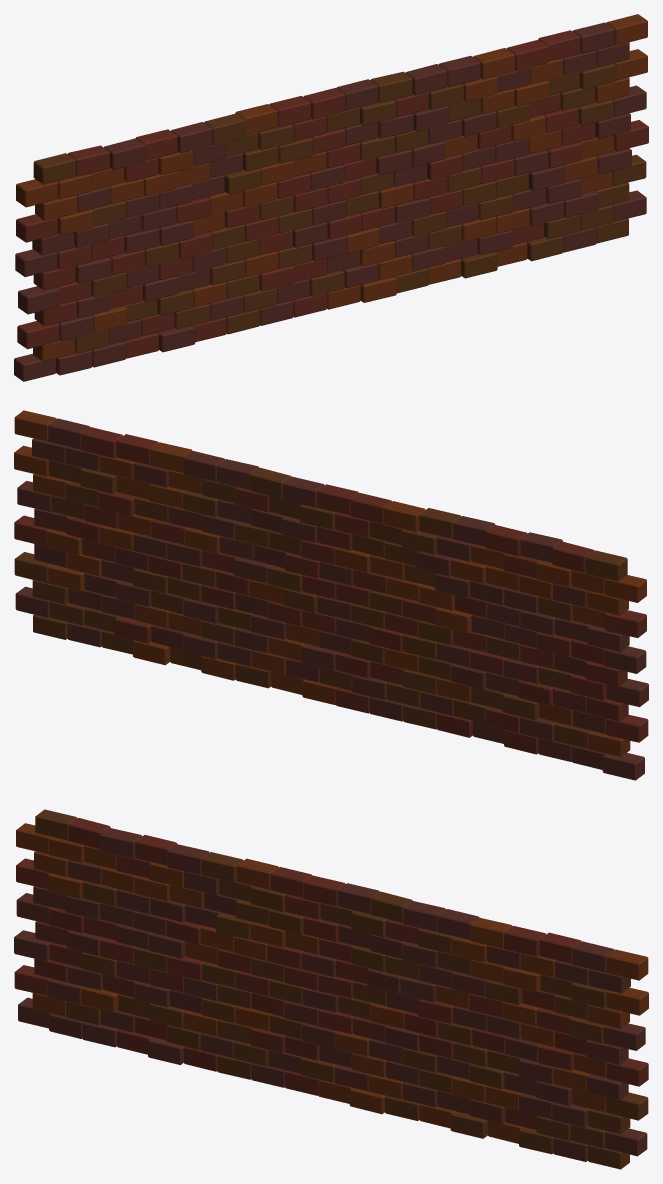
The model's file is BrickWall.fbx.
3 renders of one model, top to bottom at view 1: azimuth 30°, elevation 25°; view 2: azimuth 150°, elevation 25°; view 3: azimuth 330°, elevation 25°, orthographic.
Parts seen in each view (by area): view 1: Cube; view 2: Cube; view 3: Cube.
Boxes of the visible parts, left/top/right/bottom form: Cube: left=14, top=14, right=648, bottom=381; Cube: left=14, top=410, right=648, bottom=780; Cube: left=14, top=809, right=648, bottom=1169.
Bounding box in the file's own units: 1189 × 384 × 47.67.
